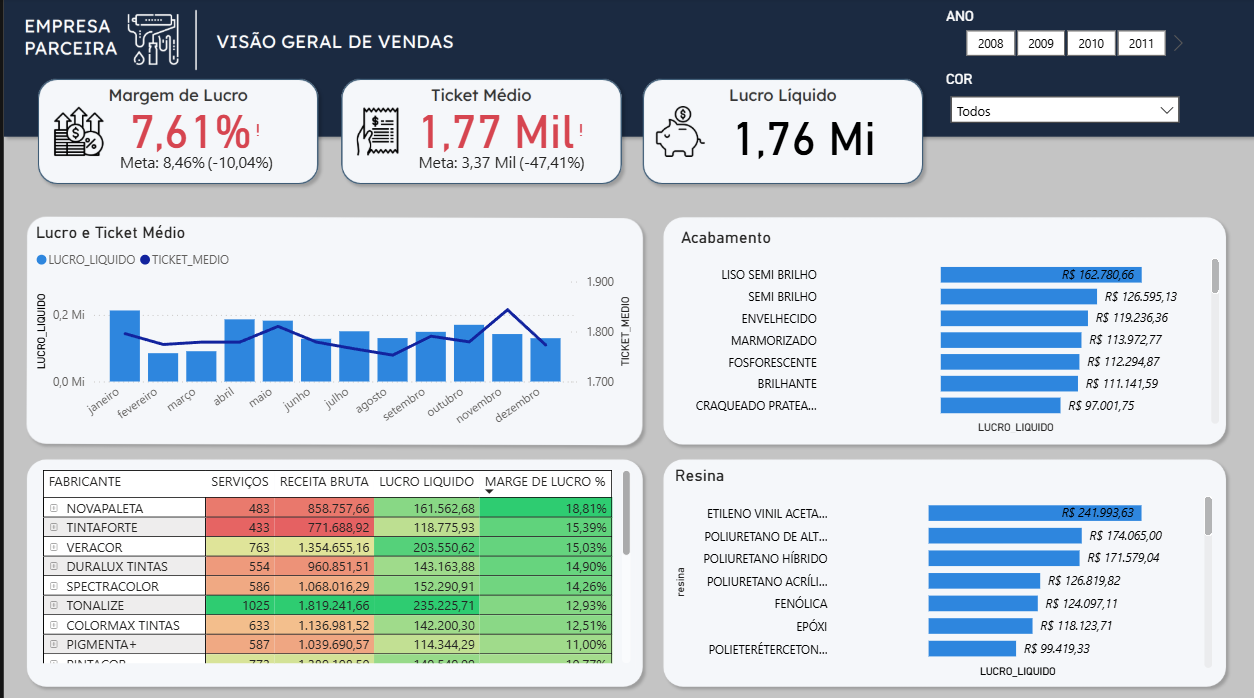

The page's visual inventory and layout, read from the dashboard file:
{"tool":"powerbi","page":{"name":"Página 1","canvas":[1280,720],"ordinal":0},"visuals":[{"type":"card","title":"Lucro Liquido","fields":{"Values":["_medidas.Lucro"]},"box":[702.9,97.9,232.5,95.2],"z":0},{"type":"kpi","title":"Ticket Médio ","fields":{"Indicator":["_medidas.Ticket_medio"],"TrendLine":["origem servico.data_servico.Variation.Hierarquia de datas.Mês"],"Goal":["_medidas.Ticket_estimado"]},"box":[404.9,97.9,210.1,95.2],"z":1000},{"type":"kpi","title":"Margem de Lucro","fields":{"Indicator":["_medidas.Margem_lucro"],"TrendLine":["origem servico.data_servico.Variation.Hierarquia de datas.Mês"],"Goal":["_medidas.Margem_estimada"]},"box":[87.1,97.9,220,95.2],"z":2000},{"type":"lineClusteredColumnComboChart","title":"Lucro e Ticket Médio","fields":{"Category":["origem servico.data_servico.Variation.Hierarquia de datas.Mês"],"Y":["_medidas.Lucro"],"Y2":["_medidas.Ticket_medio"]},"box":[27.8,228.9,619.5,225.3],"z":3000},{"type":"pivotTable","fields":{"Rows":["origem fabricante.nome_fabricante","origem tinta.cor"],"Values":["_medidas.Total_serviços","_medidas.Receita_bruta","_medidas.Lucro","_medidas.Margem_lucro"]},"box":[35,478.5,612.3,208.3],"z":4000},{"type":"clusteredBarChart","title":"Acabamento","fields":{"Category":["origem acabamento.nome_acabamento"],"Y":["_medidas.Lucro"]},"box":[688.6,234.3,561.1,215.5],"z":5000},{"type":"clusteredBarChart","title":"Resina","fields":{"Category":["origem resina.nome_resina"],"Y":["_medidas.Lucro"]},"box":[682.3,478.5,560.2,221.7],"z":6000},{"type":"slicer","title":"ANO","fields":{"Values":["origem servico.data_servico.Variation.Hierarquia de datas.Ano"]},"box":[959.3,9.8,254.1,53.9],"z":7000},{"type":"slicer","title":"COR","fields":{"Values":["origem tinta.cor"]},"box":[959.3,74.4,254.1,61.9],"z":8000},{"type":"image","box":[1219.2,52.1,46.7,44.9],"z":9001}]}

Visuals, with their boxes in screenshot pixels (x1, y1, x2, y2), scaled from the page's 1280x720 canvas onto the 1254x698 screenshot:
"Lucro Liquido" card: box=[689, 95, 916, 187]
"Ticket Médio " kpi: box=[397, 95, 603, 187]
"Margem de Lucro" kpi: box=[85, 95, 301, 187]
"Lucro e Ticket Médio" lineClusteredColumnComboChart: box=[27, 222, 634, 440]
pivotTable - origem fabricante.nome_fabricante x origem tinta.cor: box=[34, 464, 634, 666]
"Acabamento" clusteredBarChart: box=[675, 227, 1224, 436]
"Resina" clusteredBarChart: box=[668, 464, 1217, 679]
"ANO" slicer: box=[940, 10, 1189, 62]
"COR" slicer: box=[940, 72, 1189, 132]
image: box=[1194, 51, 1240, 94]
